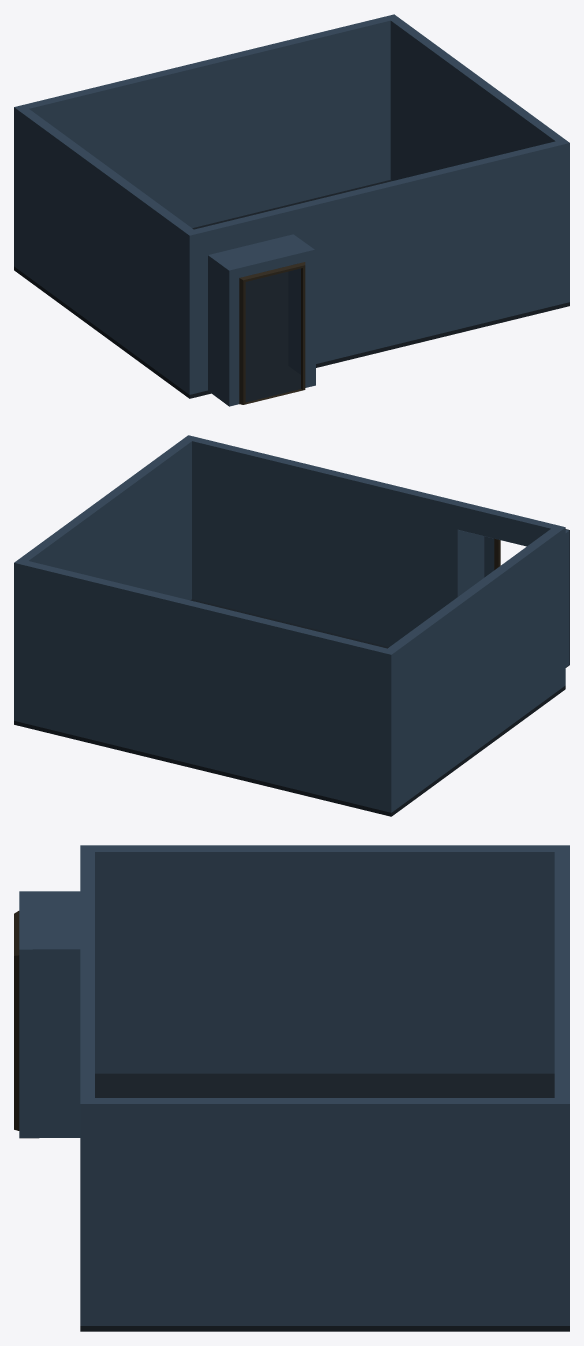
File: PROJECT DREAM - Bedroom - Normal Room.fbx
3 renders of one model, top to bottom at view 1: azimuth 30°, elevation 25°; view 2: azimuth 150°, elevation 25°; view 3: azimuth 270°, elevation 25°, orthographic. The views are drawn at different scales.
Visible parts, largest first — view 1: Bedroom - Normal Room; view 2: Bedroom - Normal Room; view 3: Bedroom - Normal Room.
Boxes of the visible parts, x1,y1,x2,y2 form: Bedroom - Normal Room: (14,14,569,406); Bedroom - Normal Room: (14,435,569,816); Bedroom - Normal Room: (14,845,569,1331).
Bounding box in the file's own units: 1000 × 410 × 908.
